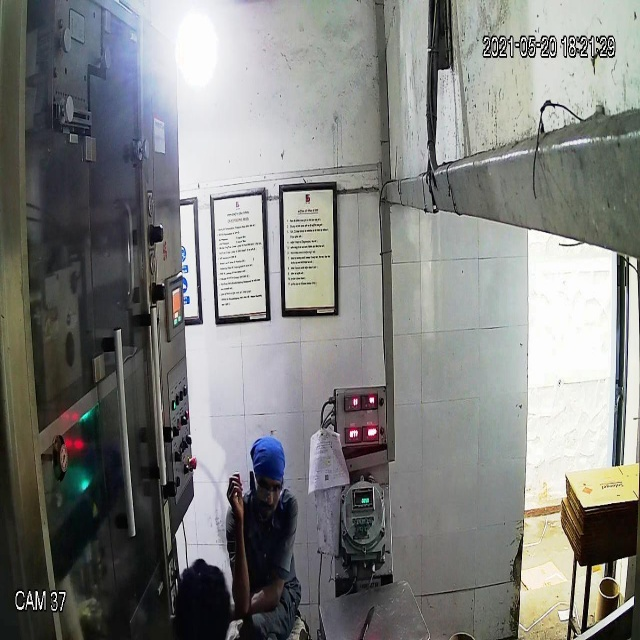Gafas: (249, 472, 285, 504)
